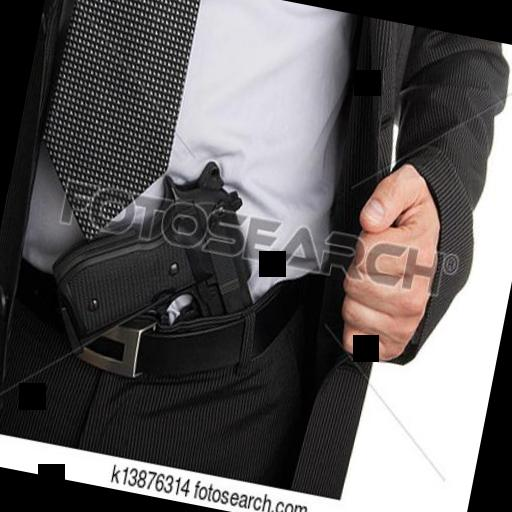Handgun: (33, 138, 296, 387)
